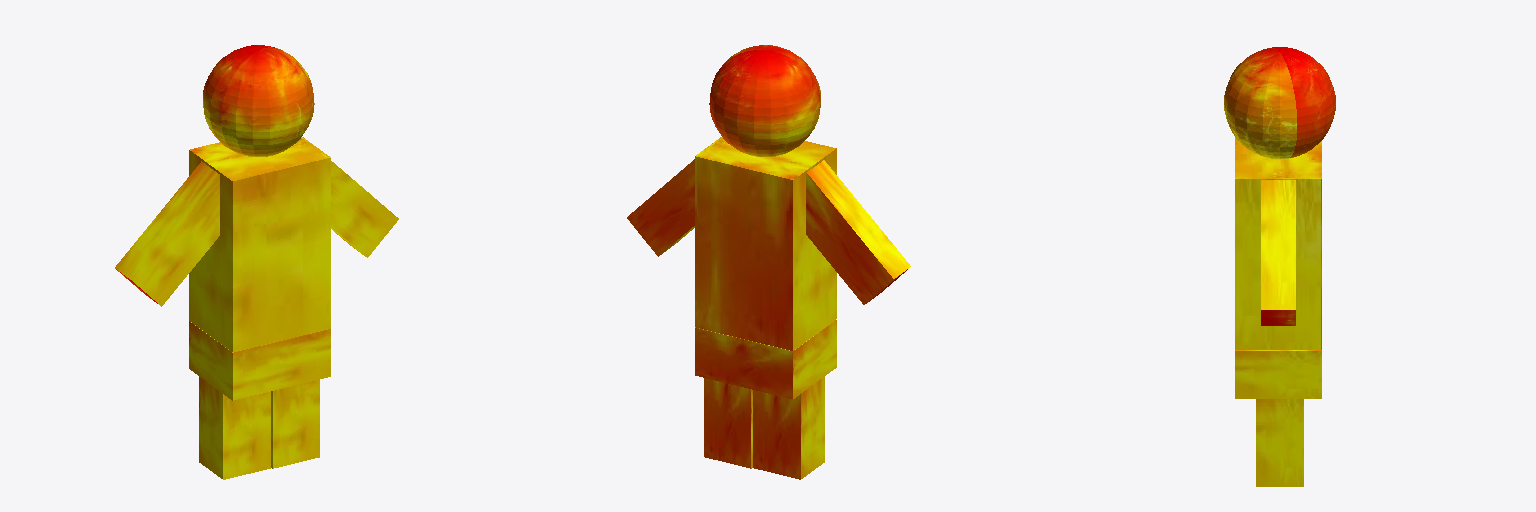
The picture shows the model from 3 angles: view 1: azimuth 30°, elevation 25°; view 2: azimuth 150°, elevation 25°; view 3: azimuth 270°, elevation 25°; orthographic projection.
Parts seen in each view (by area): view 1: pCube7; view 2: pCube7; view 3: pCube7.
Boxes of the visible parts, x1,y1,x2,y2 form: pCube7: [115, 45, 398, 479]; pCube7: [627, 45, 910, 479]; pCube7: [1224, 47, 1335, 486].
Size of the model in its own units: 5.3 by 7.77 by 1.93.
Materials: 1 (1 with a texture image).